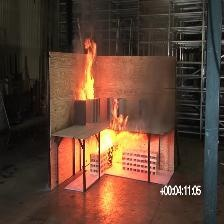fire: (84, 115, 143, 175), (67, 37, 107, 110)
